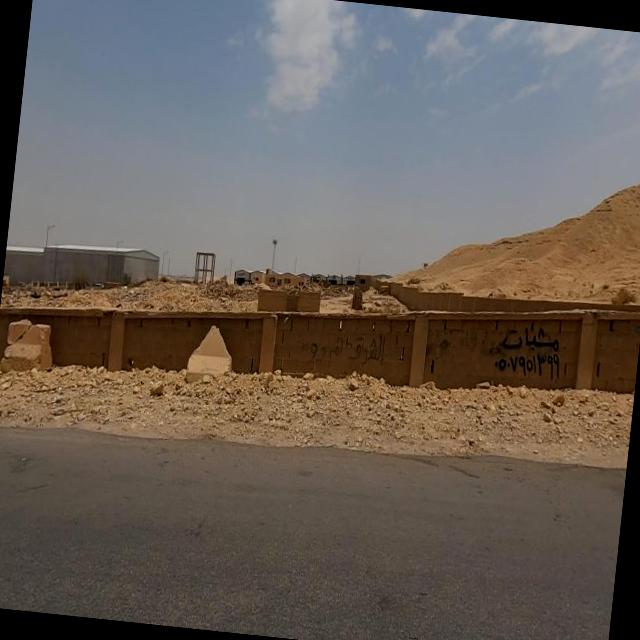debris: (430, 276, 634, 437), (232, 289, 453, 407)
